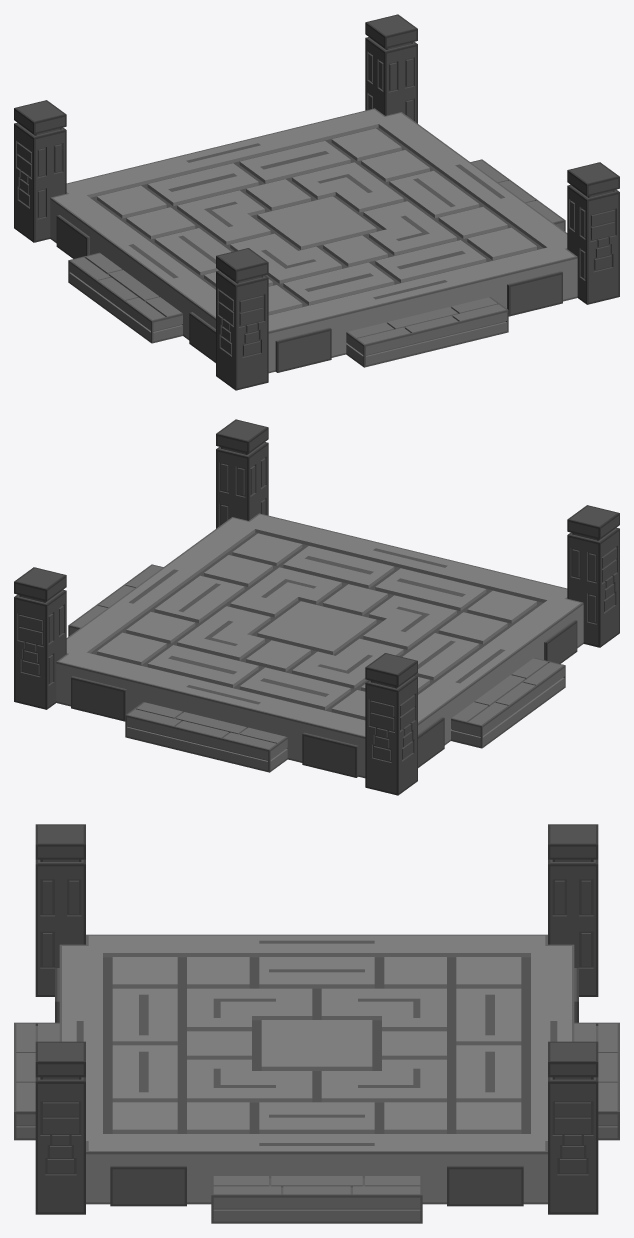
The model's file is Trial Platform.fbx.
3 views of the same model, one above another, from view 1: azimuth 30°, elevation 25°; view 2: azimuth 150°, elevation 25°; view 3: azimuth 270°, elevation 25° (orthographic). The views are drawn at different scales.
Parts seen in each view (by area): view 1: Trial Platform; view 2: Trial Platform; view 3: Trial Platform.
Part boxes in pixels (left/top/right/bottom): Trial Platform: left=14, top=14, right=619, bottom=390; Trial Platform: left=14, top=419, right=619, bottom=795; Trial Platform: left=14, top=824, right=619, bottom=1223.
Size of the model in its own units: 5.04 by 5.04 by 1.4.
Materials: 1 (1 with a texture image).
